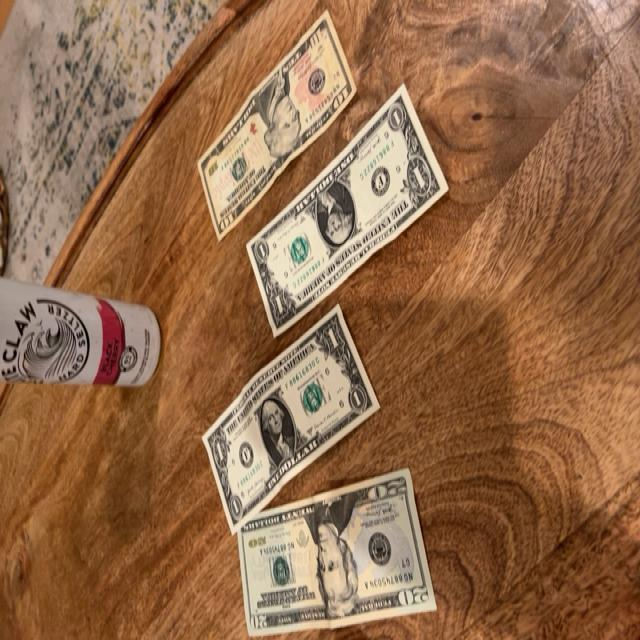one: (247, 84, 449, 338), (201, 304, 381, 535)
ten: (199, 11, 358, 242)
twenty: (237, 469, 439, 637)
